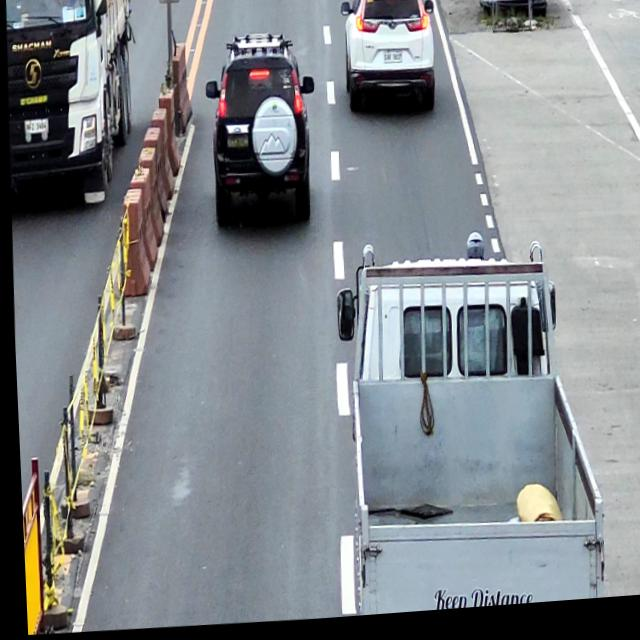Car: (200, 31, 319, 235), (336, 0, 437, 121)
License-Plate: (23, 119, 47, 134), (225, 137, 247, 152), (382, 56, 402, 70)
Truck: (324, 235, 605, 622), (1, 0, 138, 218)
